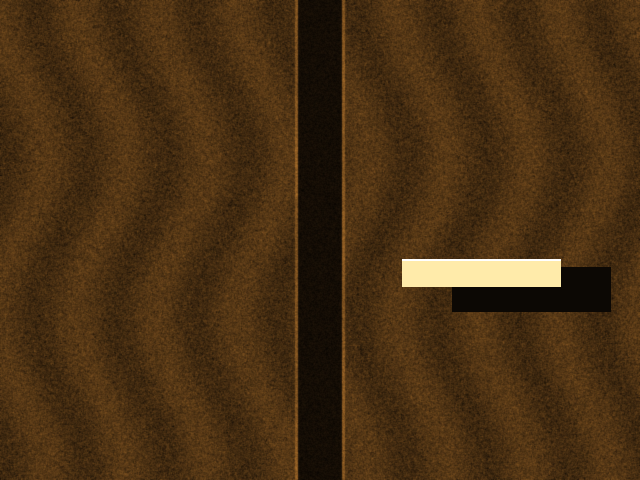Metal Debris: (402, 259, 560, 286)
